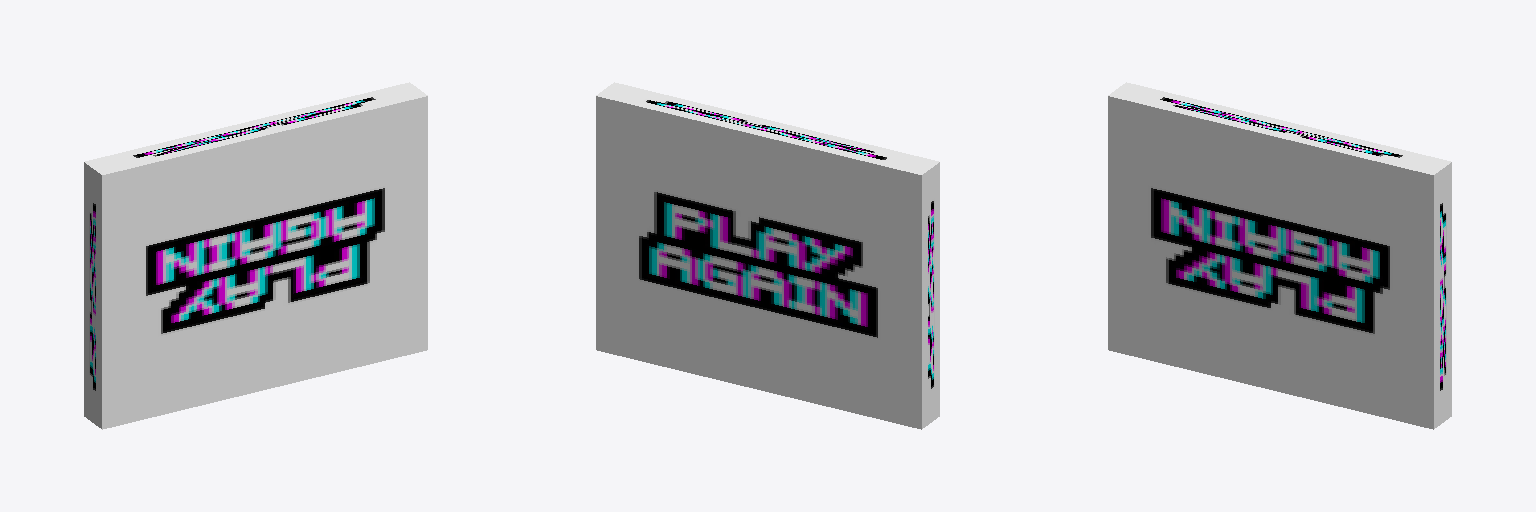
The picture shows the model from 3 angles: view 1: azimuth 30°, elevation 25°; view 2: azimuth 150°, elevation 25°; view 3: azimuth 330°, elevation 25°; orthographic projection.
Visible parts, largest first — view 1: Cube; view 2: Cube; view 3: Cube.
Boxes of the visible parts, <box> form: Cube: <box>84,82,427,429</box>; Cube: <box>596,82,939,429</box>; Cube: <box>1108,82,1451,429</box>.
Size of the model in its own units: 11.53 by 8.59 by 1.14.
Materials: 1 (1 with a texture image).